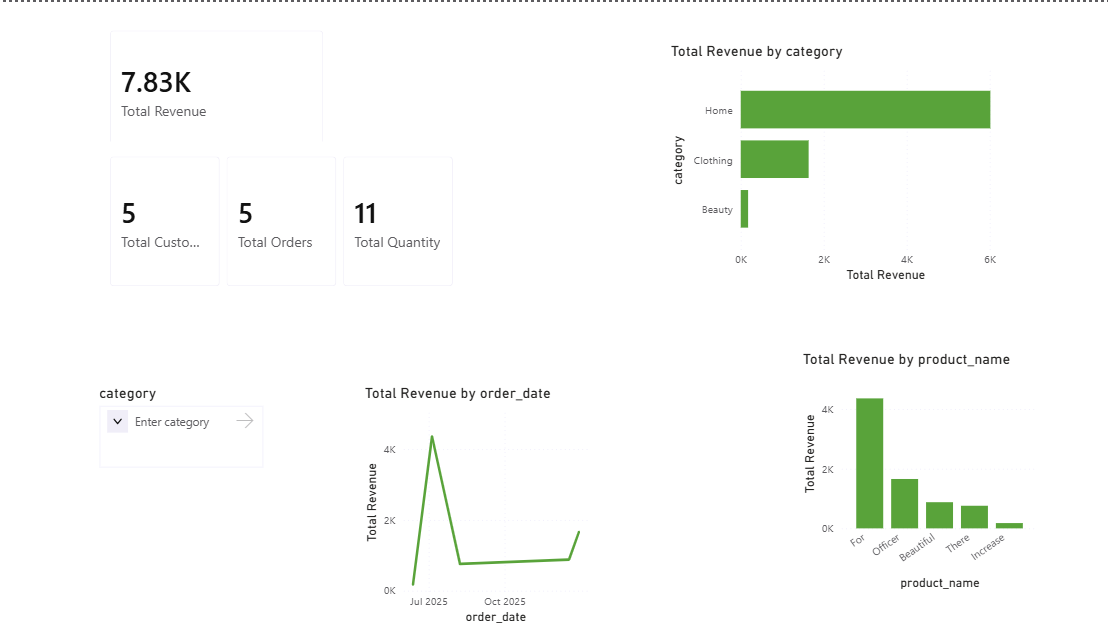

Layout of this report page (visuals, bound fields, positions):
{"tool":"powerbi","page":{"name":"Page 1","canvas":[1280,720],"ordinal":0},"visuals":[{"type":"cardVisual","fields":{"Data":["customer_revenue.Total Revenue"]},"box":[109.6,15.1,279.7,172],"z":0},{"type":"cardVisual","fields":{"Data":["customer_revenue.Total Customers","customer_revenue.Total Orders","customer_revenue.Total Quantity","customer_revenue.Total Quantity"]},"box":[109.6,160.6,430.9,183.3],"z":1000},{"type":"clusteredColumnChart","fields":{"Category":["order_details.product_name"],"Y":["customer_revenue.Total Revenue"]},"box":[918.4,400.6,279.7,279.7],"z":2000},{"type":"clusteredBarChart","fields":{"Category":["order_details.category"],"Y":["customer_revenue.Total Revenue"]},"box":[767.2,47.2,430.9,279.7],"z":3000},{"type":"lineChart","fields":{"Category":["order_details.order_date"],"Y":["customer_revenue.Total Revenue"]},"box":[415.8,440.3,279.7,279.7],"z":4000},{"type":"textSlicer","fields":{"Values":["order_details.category"]},"box":[109.6,440.3,198.4,100.2],"z":5000}]}

Visuals, with their boxes in screenshot pixels (x1, y1, x2, y2), scaled from the page's 1280x720 canvas onto the 1108x627 screenshot:
cardVisual - customer_revenue.Total Revenue: box(95, 13, 337, 163)
cardVisual - customer_revenue.Total Customers x customer_revenue.Total Orders: box(95, 140, 468, 299)
clusteredColumnChart - order_details.product_name x customer_revenue.Total Revenue: box(795, 349, 1037, 592)
clusteredBarChart - order_details.category x customer_revenue.Total Revenue: box(664, 41, 1037, 285)
lineChart - order_details.order_date x customer_revenue.Total Revenue: box(360, 383, 602, 626)
textSlicer - order_details.category: box(95, 383, 267, 471)
